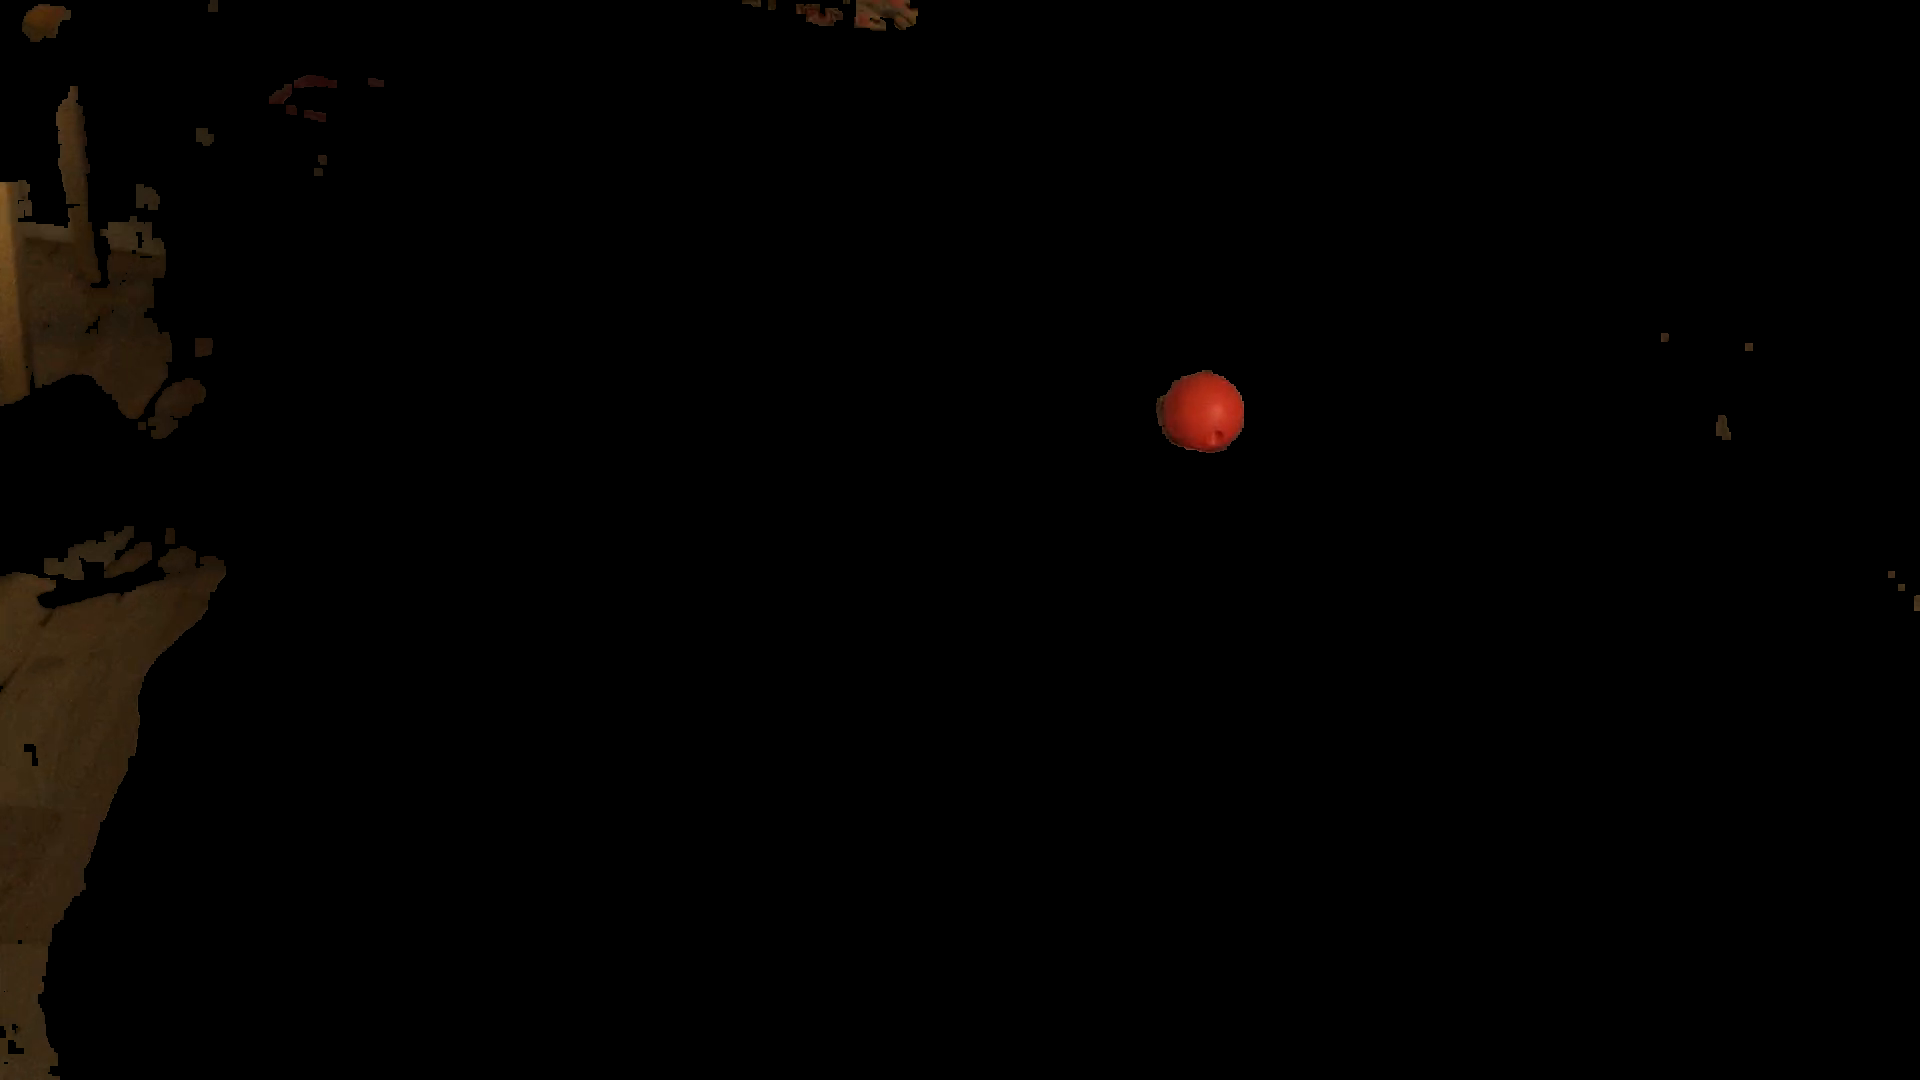Ball: (1158, 367, 1247, 458)
